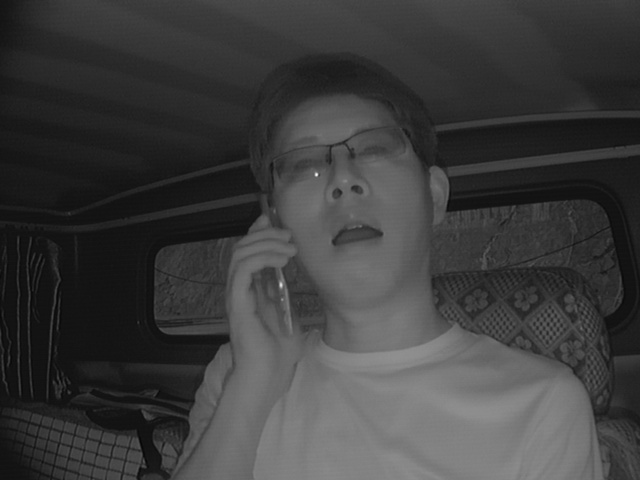hand: (215, 213, 303, 360)
